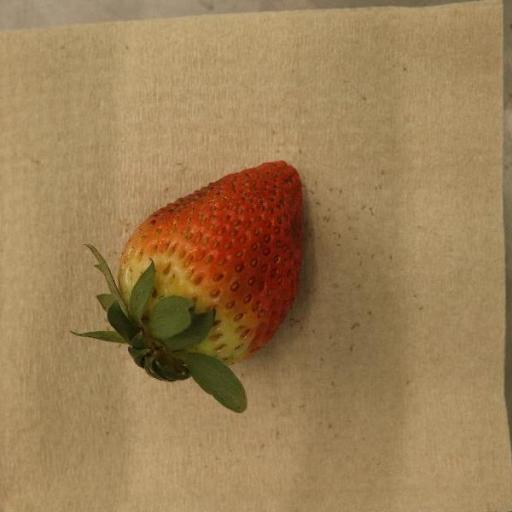Strawberry: (84, 161, 305, 415)
